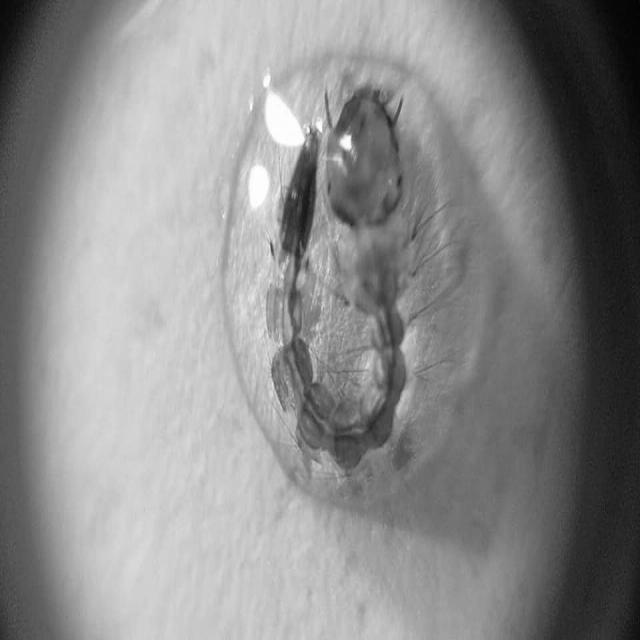larvas: (266, 89, 402, 464)
